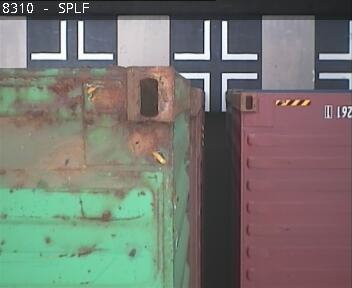groundmarker_1: (29, 21, 113, 59), (173, 22, 257, 60), (178, 72, 257, 110), (319, 21, 352, 88)
